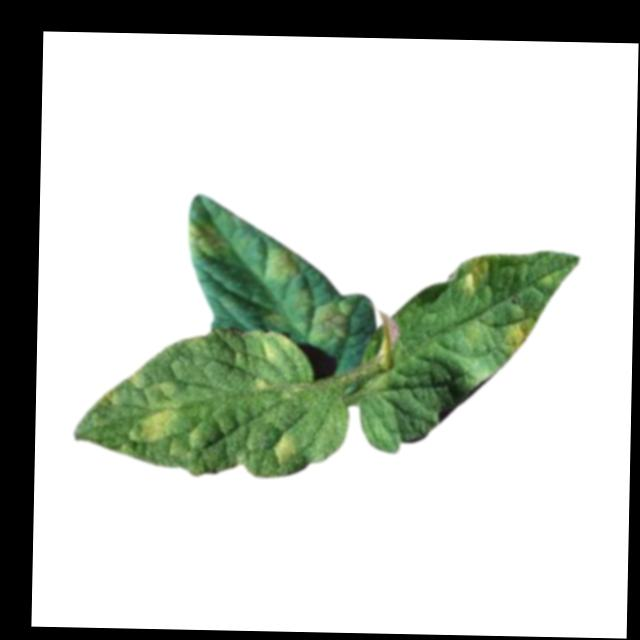Leaf_Mold: (311, 298, 359, 348), (185, 219, 234, 260), (135, 409, 186, 445), (264, 245, 303, 284), (458, 254, 494, 295), (503, 316, 535, 352), (270, 430, 299, 468), (260, 333, 293, 362), (251, 375, 274, 394)
